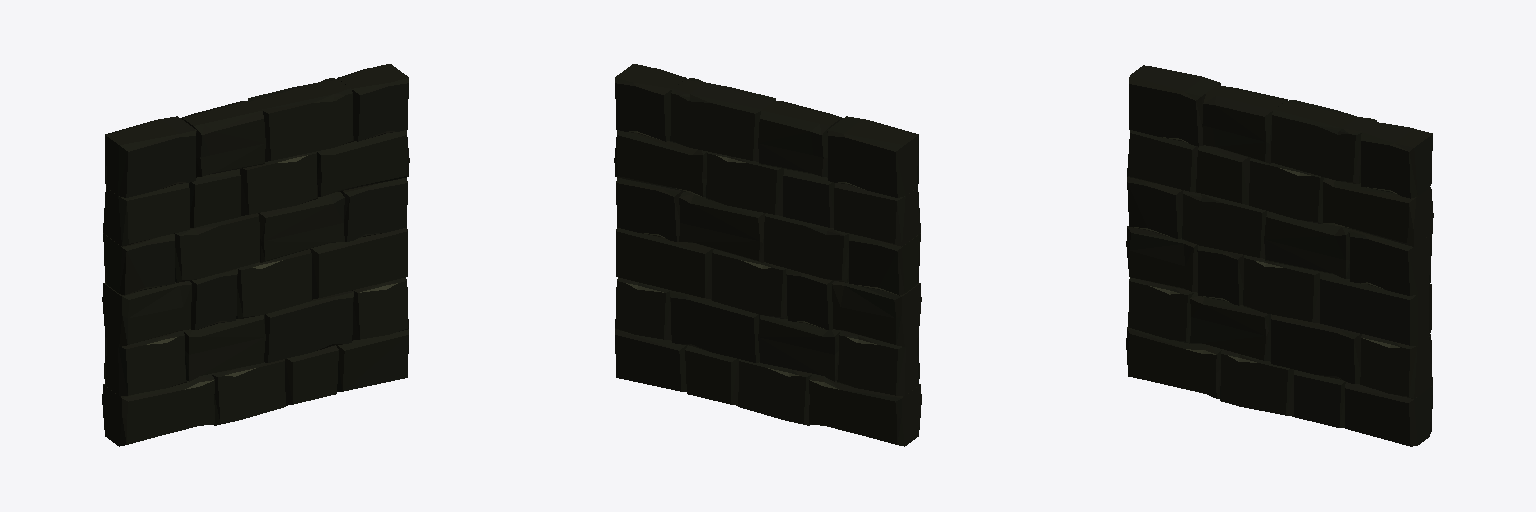
File: Wall.obj
3 views of the same model, side by side, from view 1: azimuth 30°, elevation 25°; view 2: azimuth 150°, elevation 25°; view 3: azimuth 330°, elevation 25° (orthographic).
Parts seen in each view (by area): view 1: Wall; view 2: Wall; view 3: Wall.
Part boxes in pixels (x1,y1,x2,y2): Wall: (102,64,409,446); Wall: (614,64,921,446); Wall: (1126,65,1433,446).
Bounding box in the file's own units: 2 × 2 × 0.2859.